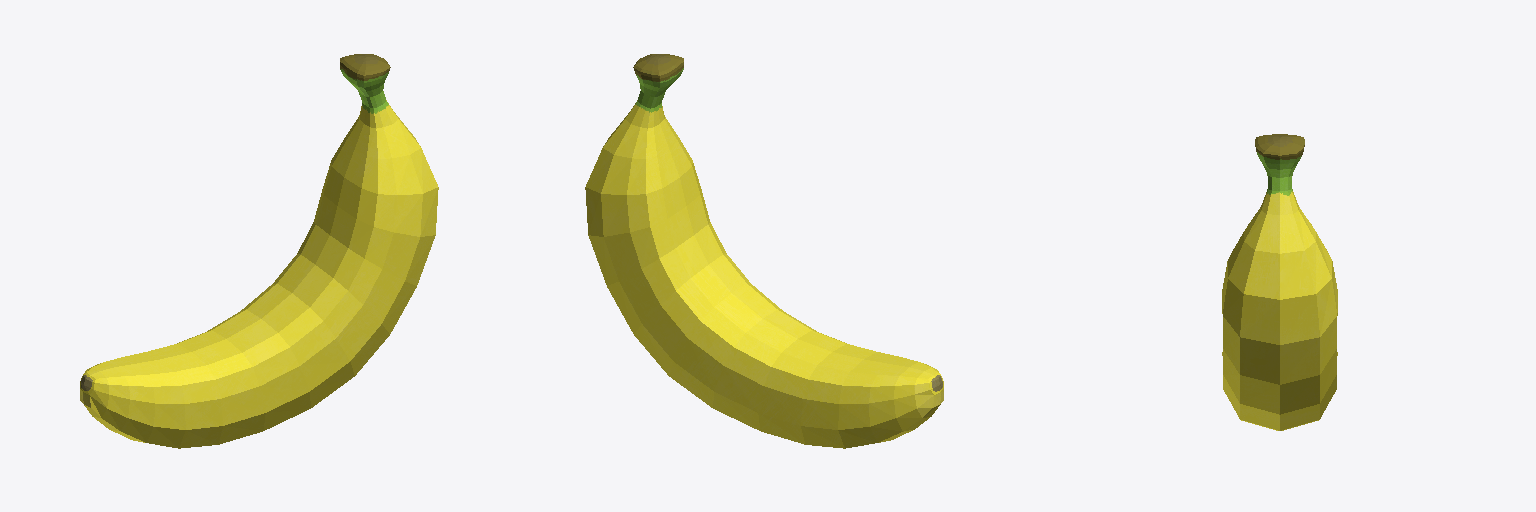
3 renders of one model, left to right at view 1: azimuth 30°, elevation 25°; view 2: azimuth 150°, elevation 25°; view 3: azimuth 270°, elevation 25°, orthographic.
Visible parts, largest first — view 1: banana_Cube.002; view 2: banana_Cube.002; view 3: banana_Cube.002.
Part boxes in pixels (left/top/right/bottom): banana_Cube.002: left=80, top=54, right=438, bottom=448; banana_Cube.002: left=585, top=54, right=943, bottom=448; banana_Cube.002: left=1222, top=134, right=1337, bottom=430.
Bounding box in the file's own units: 0.4488 × 0.425 × 0.13.
1 materials, 1 textured.